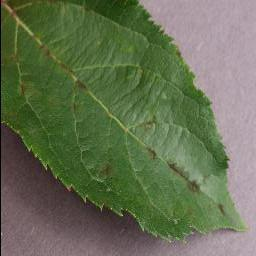apple healthy: (0, 0, 248, 242)
